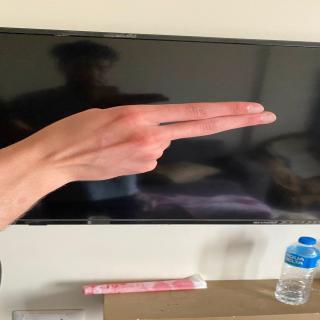AYN: (11, 92, 277, 197)
